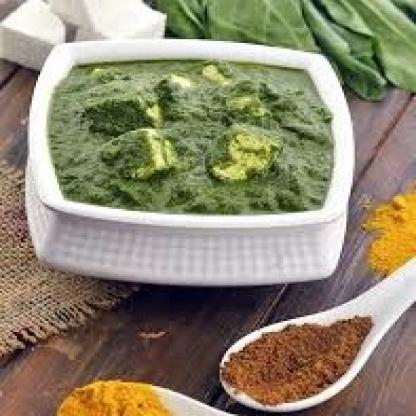palak_paneer: (45, 60, 335, 216)
